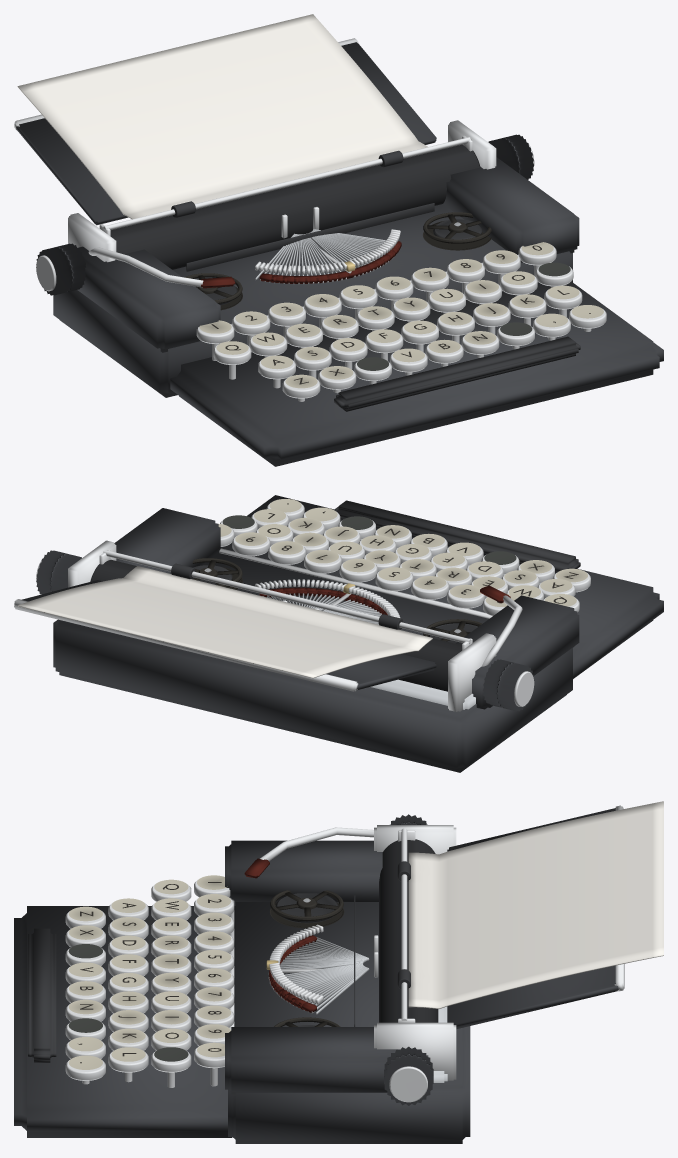
Rendered from mechanical-typewriter.glb.
3 views of the same model, one above another, from view 1: azimuth 30°, elevation 25°; view 2: azimuth 150°, elevation 25°; view 3: azimuth 270°, elevation 25° (orthographic). The views are drawn at different scales.
Visible parts, largest first — view 1: PaperSheet, KeyboardDeck, PlatenRoller, ChassisBase, ShoulderLeft, ShoulderRight, PaperTableBacking, SpaceBar, InkRibbonStrip, PaperBailBar, PlatenKnobL_Body, CarriageCheekL (+3 smaller); view 2: ChassisBase, PaperSheet, KeyboardDeck, ShoulderLeft, ShoulderRight, SpaceBar, PaperTableBacking, PlatenRoller, PaperBailBar, CarriageCheekL, PaperTableLip, PlatenKnobL_Body (+13 smaller); view 3: PaperSheet, ChassisBase, KeyboardDeck, ShoulderRight, ShoulderLeft, PaperTableBacking, PlatenRoller, SpaceBar, CarriageCheekR, CarriageCheekL, PlatenKnobR_Body, PaperBailBar (+4 smaller).
Boxes of the visible parts, x1=… form: PaperSheet: x1=17, y1=14, x2=427, y2=219; KeyboardDeck: x1=170, y1=281, x2=663, y2=466; PlatenRoller: x1=110, y1=144, x2=480, y2=269; ChassisBase: x1=53, y1=204, x2=572, y2=397; ShoulderLeft: x1=77, y1=246, x2=220, y2=352; ShoulderRight: x1=443, y1=157, x2=579, y2=262; PaperTableBacking: x1=16, y1=42, x2=436, y2=225; SpaceBar: x1=334, y1=336, x2=580, y2=411; InkRibbonStrip: x1=186, y1=203, x2=434, y2=271; PaperBailBar: x1=103, y1=137, x2=471, y2=229; PlatenKnobL_Body: x1=36, y1=243, x2=85, y2=295; CarriageCheekL: x1=68, y1=213, x2=116, y2=262; ChassisBase: x1=53, y1=553, x2=572, y2=772; PaperSheet: x1=17, y1=566, x2=432, y2=678; KeyboardDeck: x1=220, y1=495, x2=663, y2=678; ShoulderLeft: x1=455, y1=595, x2=579, y2=709; ShoulderRight: x1=114, y1=508, x2=220, y2=573; SpaceBar: x1=334, y1=500, x2=580, y2=572; PaperTableBacking: x1=22, y1=580, x2=436, y2=689; PlatenRoller: x1=90, y1=559, x2=461, y2=691; PaperBailBar: x1=103, y1=550, x2=471, y2=644; CarriageCheekL: x1=448, y1=633, x2=496, y2=711; PaperTableLip: x1=14, y1=599, x2=358, y2=691; PlatenKnobL_Body: x1=483, y1=659, x2=534, y2=711; PaperSheet: x1=408, y1=801, x2=663, y2=1008; ChassisBase: x1=228, y1=902, x2=470, y2=1143; KeyboardDeck: x1=14, y1=906, x2=232, y2=1137; ShoulderRight: x1=225, y1=1027, x2=428, y2=1095; ShoulderLeft: x1=225, y1=840, x2=382, y2=905; PaperTableBacking: x1=447, y1=808, x2=618, y2=1029; PlatenRoller: x1=379, y1=839, x2=438, y2=1022; SpaceBar: x1=28, y1=928, x2=56, y2=1062; CarriageCheekR: x1=374, y1=1022, x2=456, y2=1080; CarriageCheekL: x1=374, y1=825, x2=456, y2=854; PlatenKnobR_Body: x1=384, y1=1046, x2=433, y2=1105; PaperBailBar: x1=401, y1=828, x2=407, y2=1020.
Bounding box in the file's own units: 5.47 × 1.65 × 6.01.
